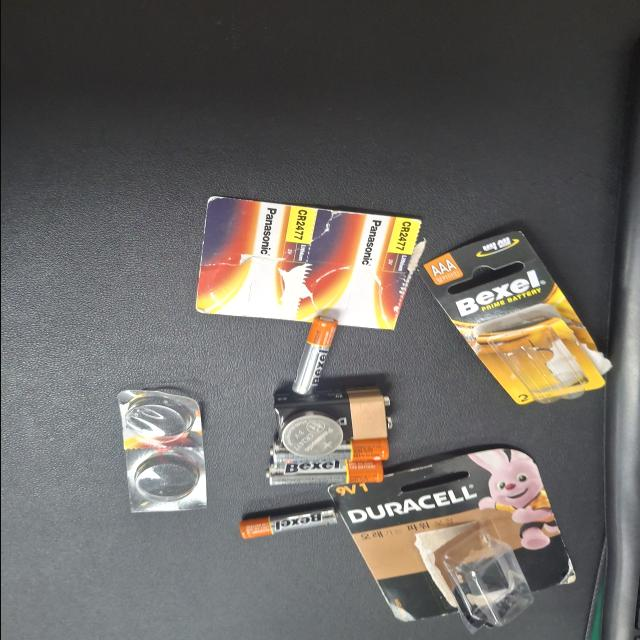9V: (303, 188, 373, 276)
AA: (397, 193, 434, 281), (372, 188, 404, 278)
AAA: (209, 228, 313, 262), (464, 228, 506, 302)
COIN: (335, 223, 395, 270)
